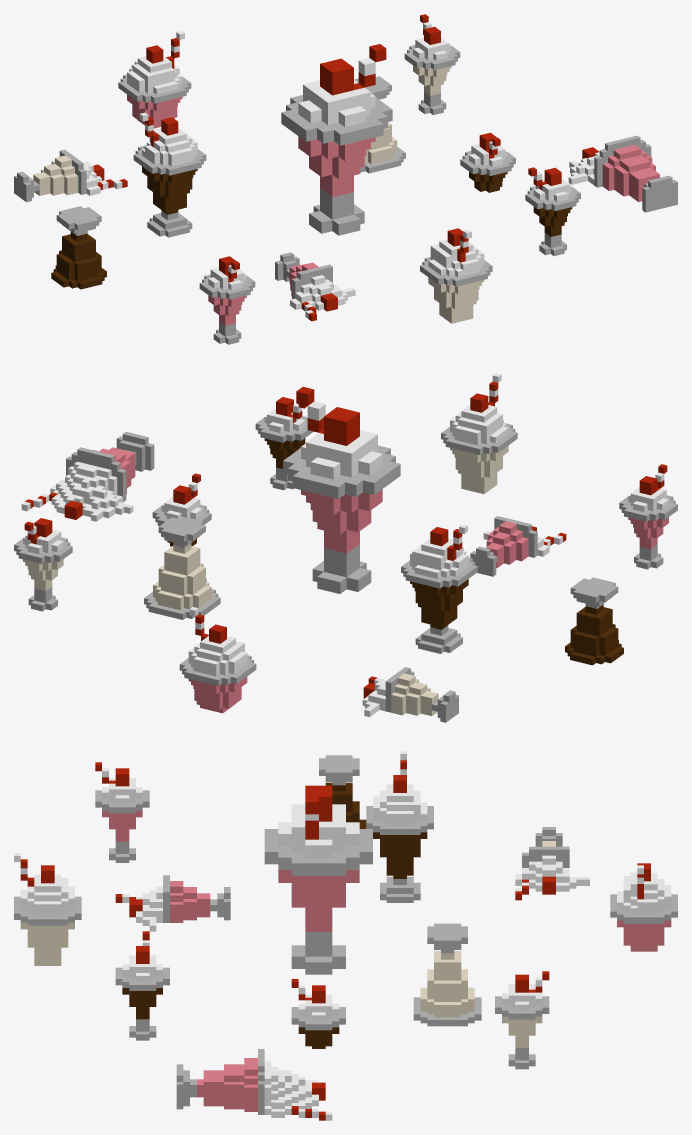
File: milkshakes_inner.obj
The picture shows the model from 3 angles, top to bottom: view 1: azimuth 30°, elevation 25°; view 2: azimuth 150°, elevation 25°; view 3: azimuth 270°, elevation 25°; orthographic projection. The views are drawn at different scales.
Visible parts, largest first — view 1: milkshakes; view 2: milkshakes; view 3: milkshakes.
Boxes of the visible parts, box(x1,y1,x2,y2) form: milkshakes: box(14, 14, 677, 344); milkshakes: box(14, 373, 677, 722); milkshakes: box(14, 751, 677, 1120).
Size of the model in its own units: 105 by 30 by 98.
